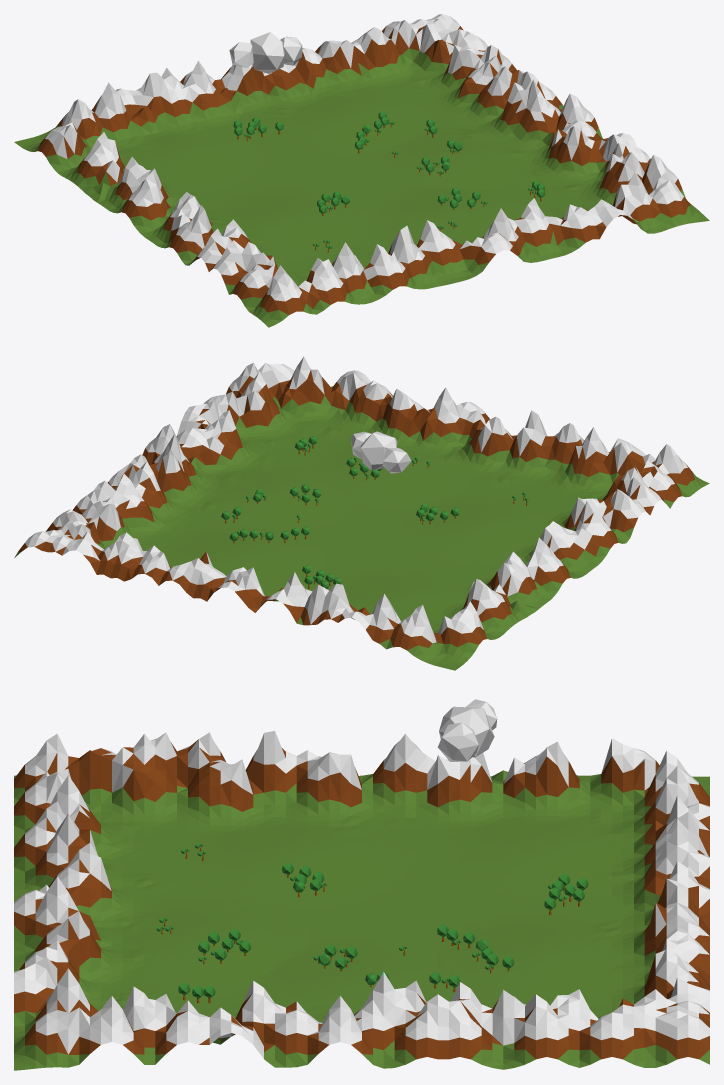
Rendered from map.dae.
3 views of the same model, one above another, from view 1: azimuth 30°, elevation 25°; view 2: azimuth 150°, elevation 25°; view 3: azimuth 270°, elevation 25° (orthographic). The views are drawn at different scales.
Visible parts, largest first — view 1: Plane, Icosphere_001; view 2: Plane, Icosphere_001; view 3: Plane, Icosphere_001.
Boxes of the visible parts, x1,y1,x2,y2 form: Plane: [14, 14, 709, 327]; Icosphere_001: [229, 32, 302, 73]; Plane: [14, 356, 709, 670]; Icosphere_001: [351, 431, 411, 473]; Plane: [14, 731, 709, 1070]; Icosphere_001: [437, 699, 497, 761].
Bounding box in the file's own units: 15.92 × 15.92 × 4.58.
